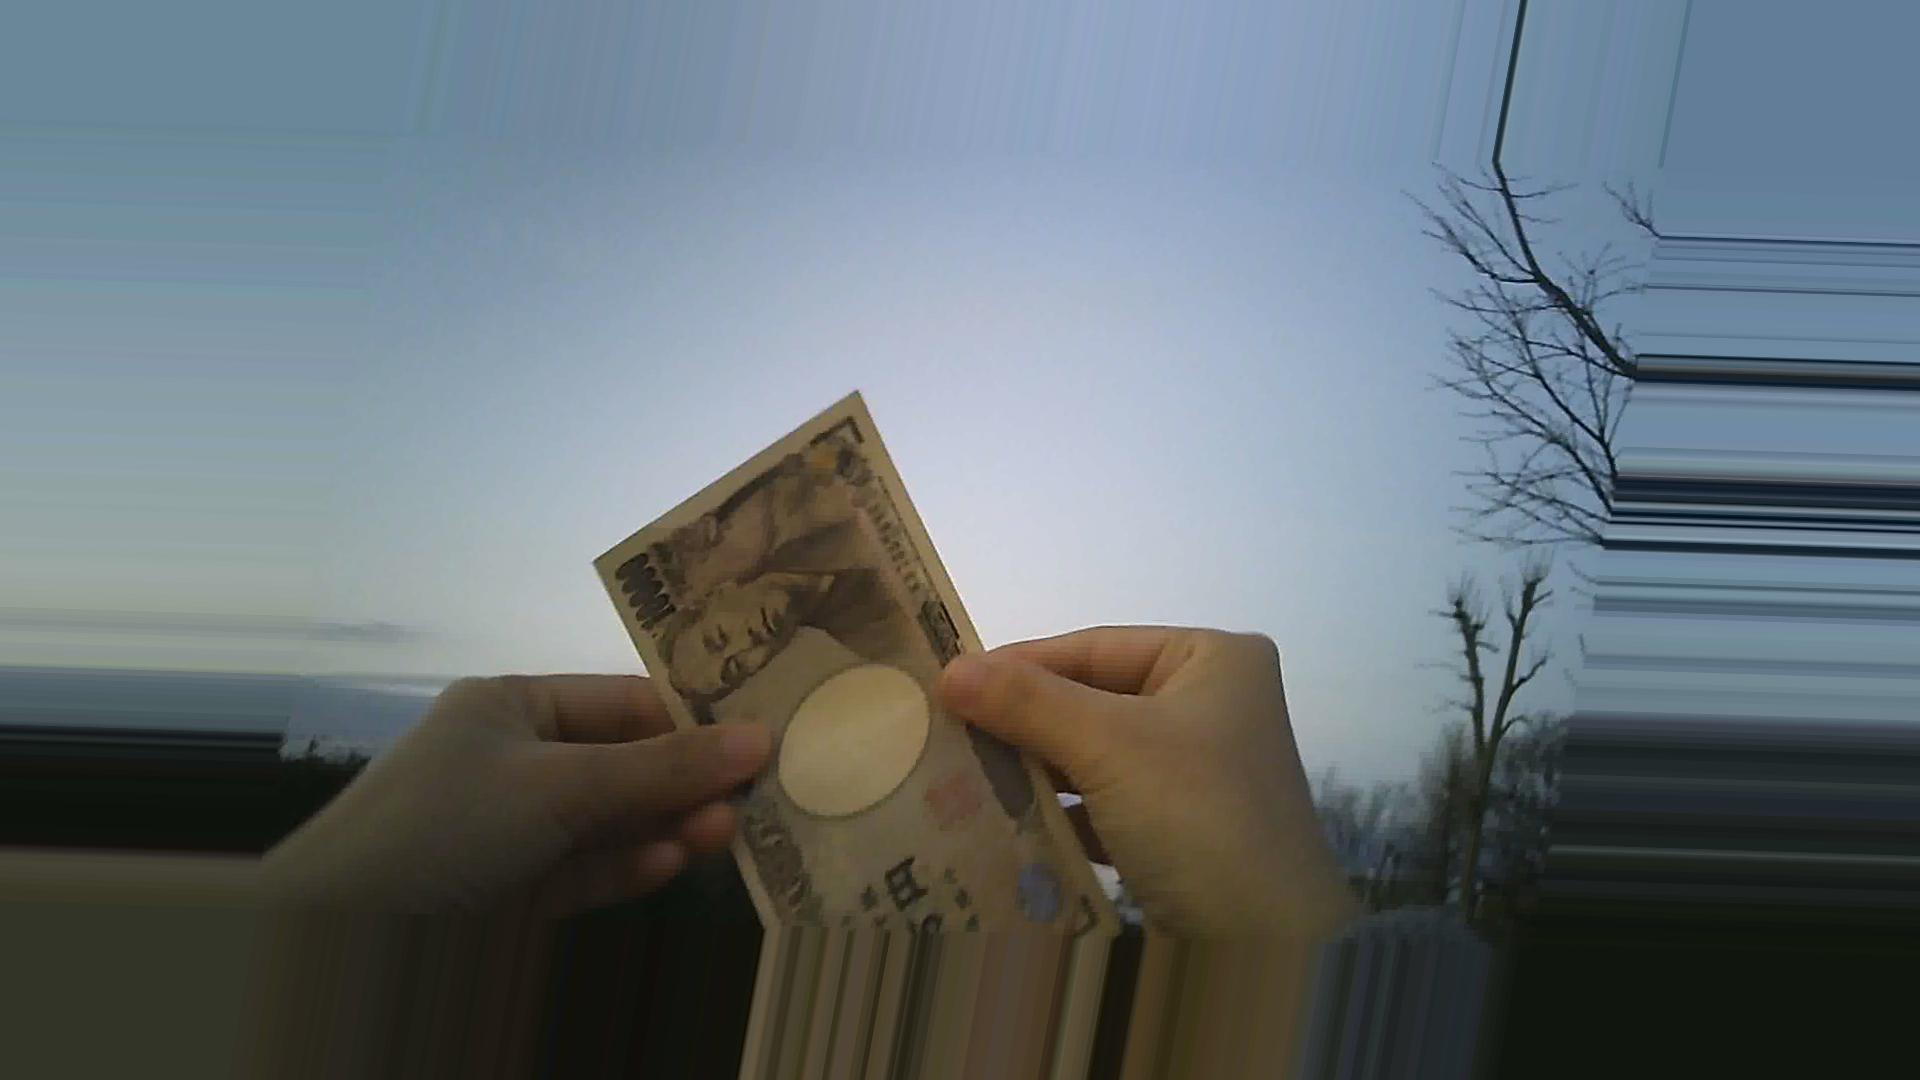10,000 Yen: (578, 400, 1134, 938)
